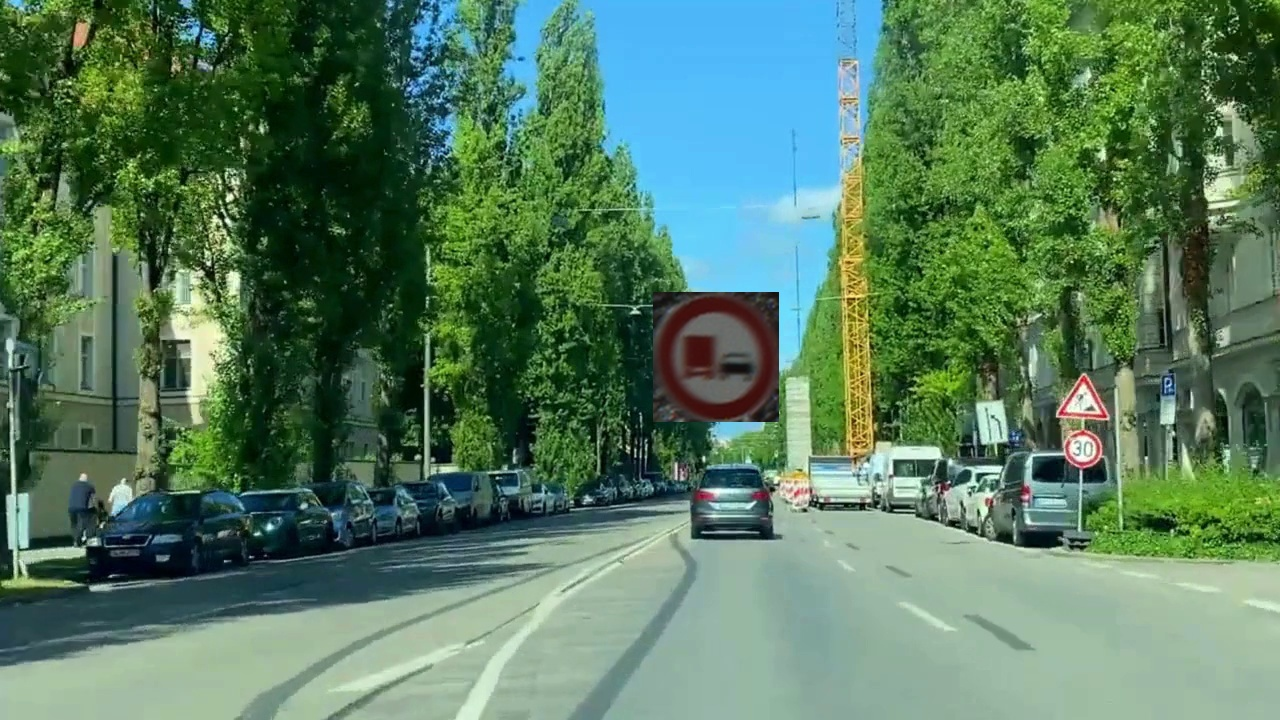No pass >3.5t: (653, 292, 779, 422)
